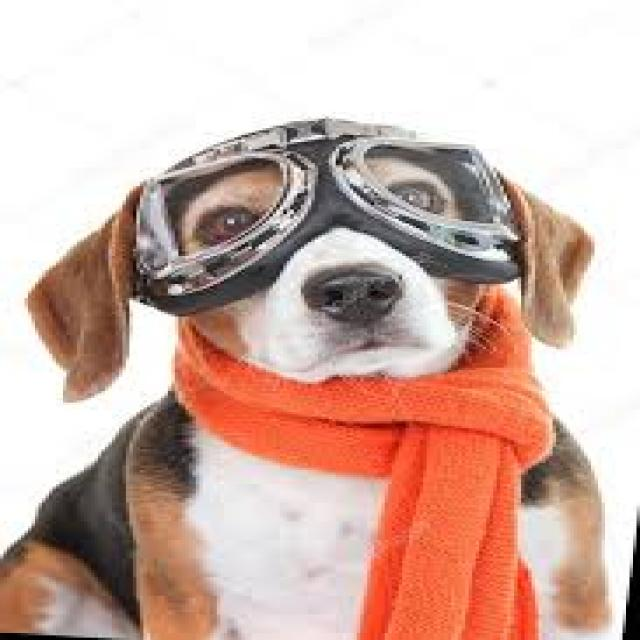Dog: (0, 116, 619, 640)
